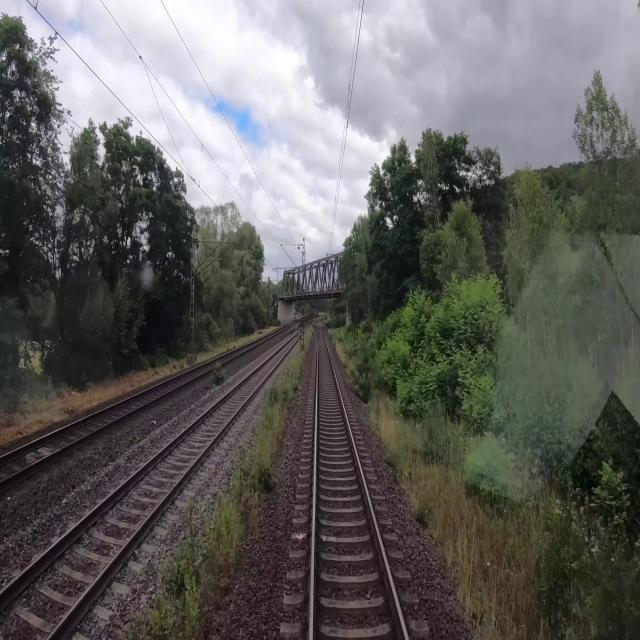Plant: (234, 325, 315, 500), (127, 497, 206, 639), (206, 487, 244, 561), (212, 362, 225, 388)
